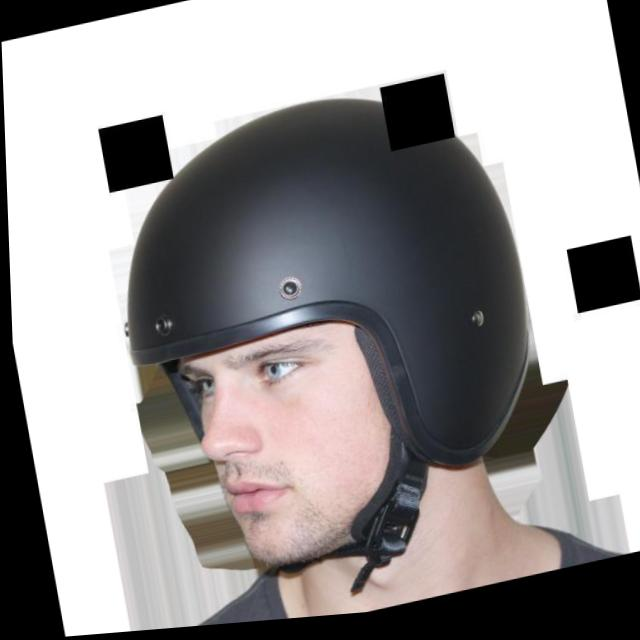helmet: (88, 64, 571, 635)
